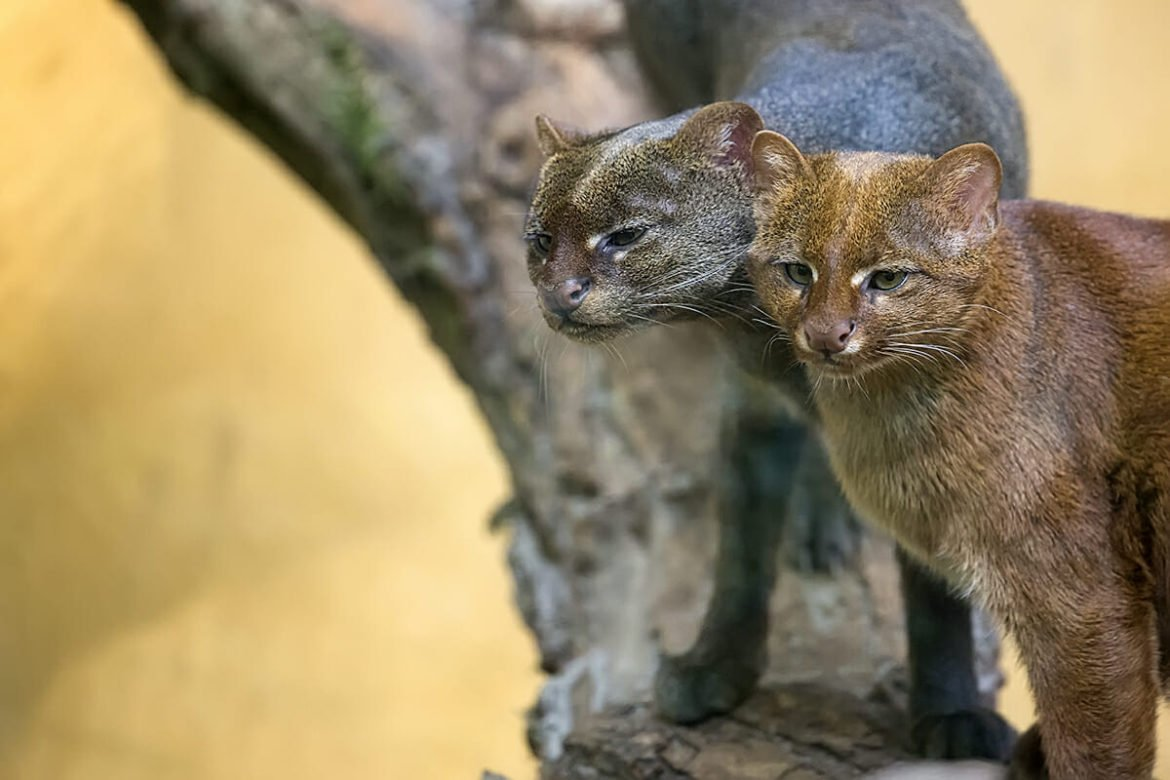Jaguarundi: (517, 2, 1015, 748), (745, 119, 1155, 770)
